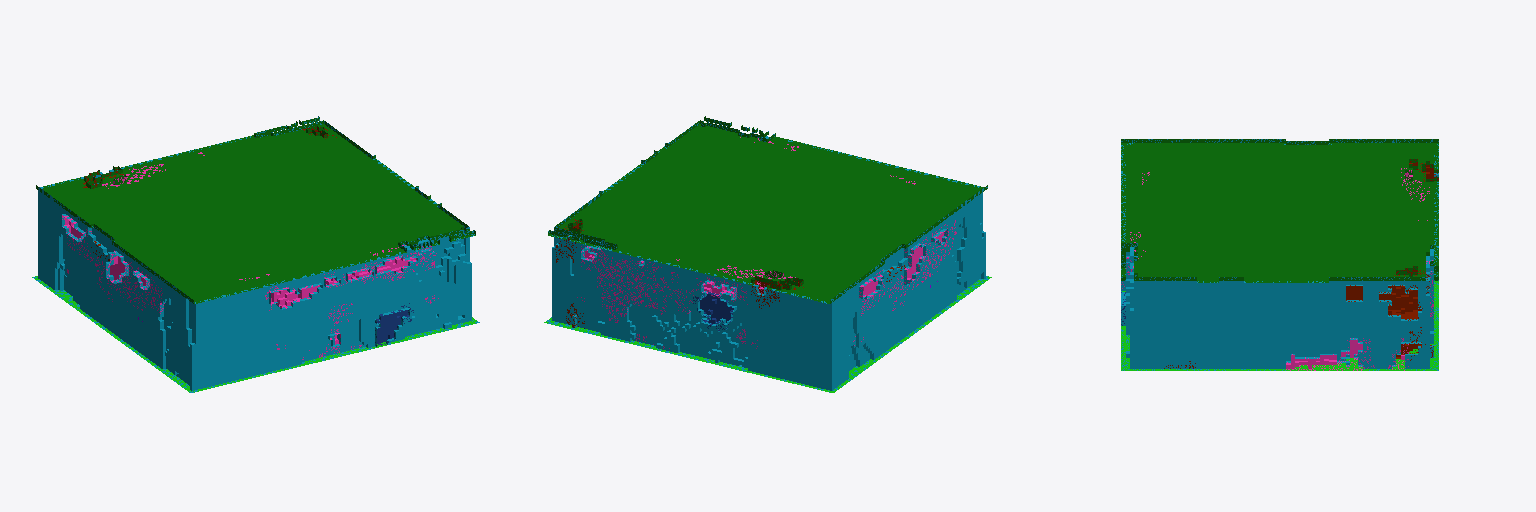
The model's file is Input_prediction.obj.
The picture shows the model from 3 angles: view 1: azimuth 30°, elevation 25°; view 2: azimuth 150°, elevation 25°; view 3: azimuth 270°, elevation 25°; orthographic projection.
Parts seen in each view (by area): view 1: Cube; view 2: Cube; view 3: Cube.
Part boxes in pixels (left/top/right/bottom): Cube: left=32, top=116, right=479, bottom=392; Cube: left=544, top=116, right=991, bottom=392; Cube: left=1121, top=139, right=1438, bottom=370.
Size of the model in its own units: 6.32 by 2 by 6.